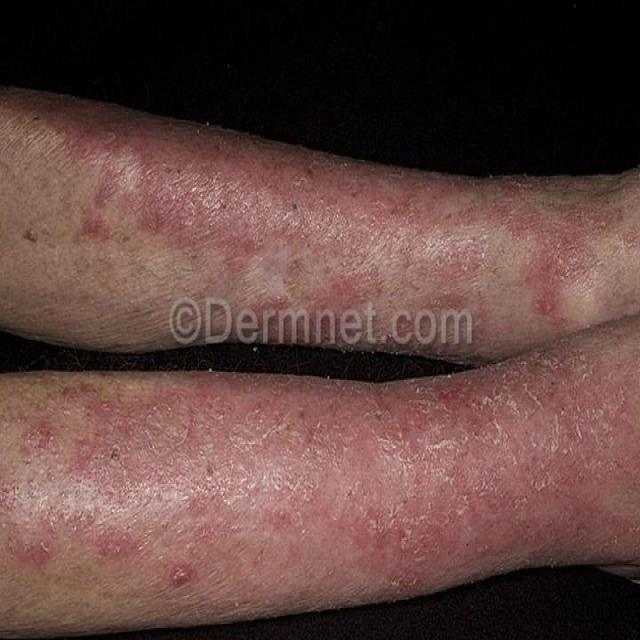Eczema: (0, 382, 631, 576), (18, 105, 589, 314)
